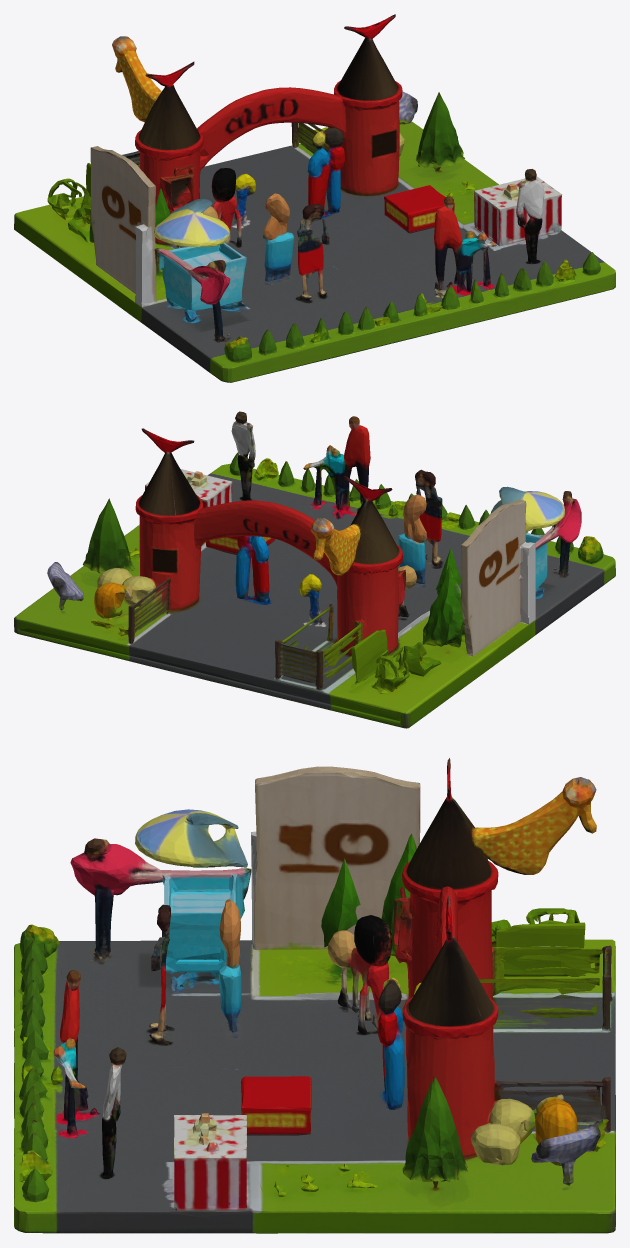
File: zoo.glb
3 renders of one model, top to bottom at view 1: azimuth 30°, elevation 25°; view 2: azimuth 150°, elevation 25°; view 3: azimuth 270°, elevation 25°, orthographic. The views are drawn at different scales.
Parts seen in each view (by area): view 1: world; view 2: world; view 3: world.
Boxes of the visible parts, x1=… form: world: x1=14, y1=14, x2=615, y2=382; world: x1=14, y1=411, x2=615, y2=728; world: x1=14, y1=758, x2=615, y2=1233.
Size of the model in its own units: 0.8814 by 0.3819 by 0.8139.
Materials: 1 (1 with a texture image).
